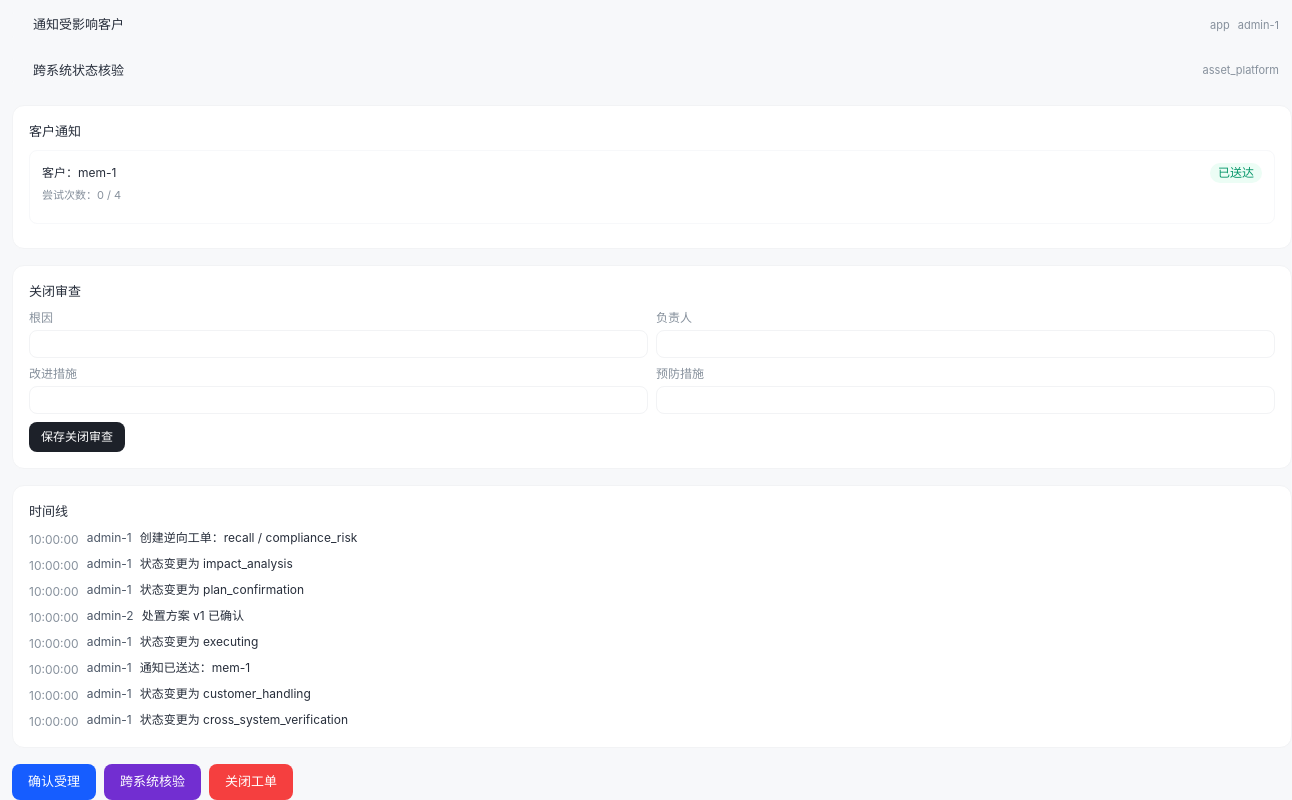
Test: ReverseWorkOrderDetail › close attempt before gates displays the store error in the page
(page scrolled)
Click the button with test id "close-btn" at (251,782), box [209,764,293,799]
(page scrolled)
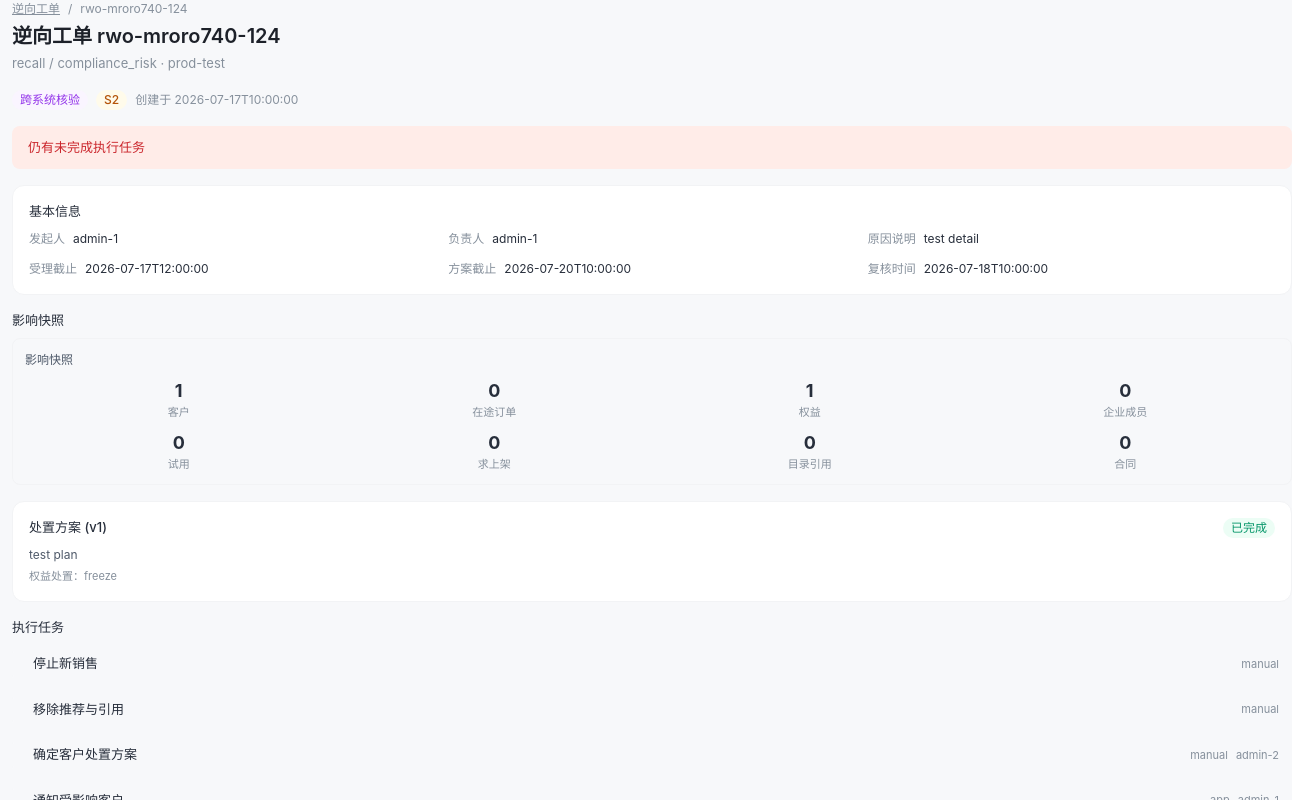
expect the text "仍有未完成执行任务" is shown: met, box [12,126,1291,169]
